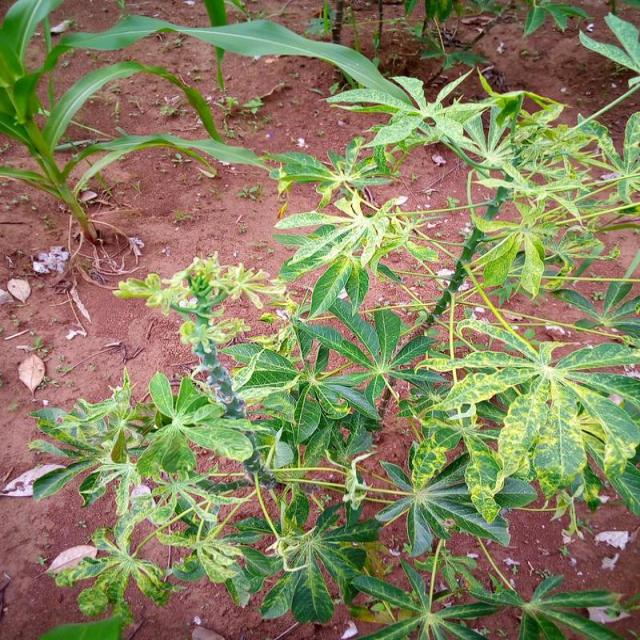cassava leaf: (4, 3, 638, 636)
